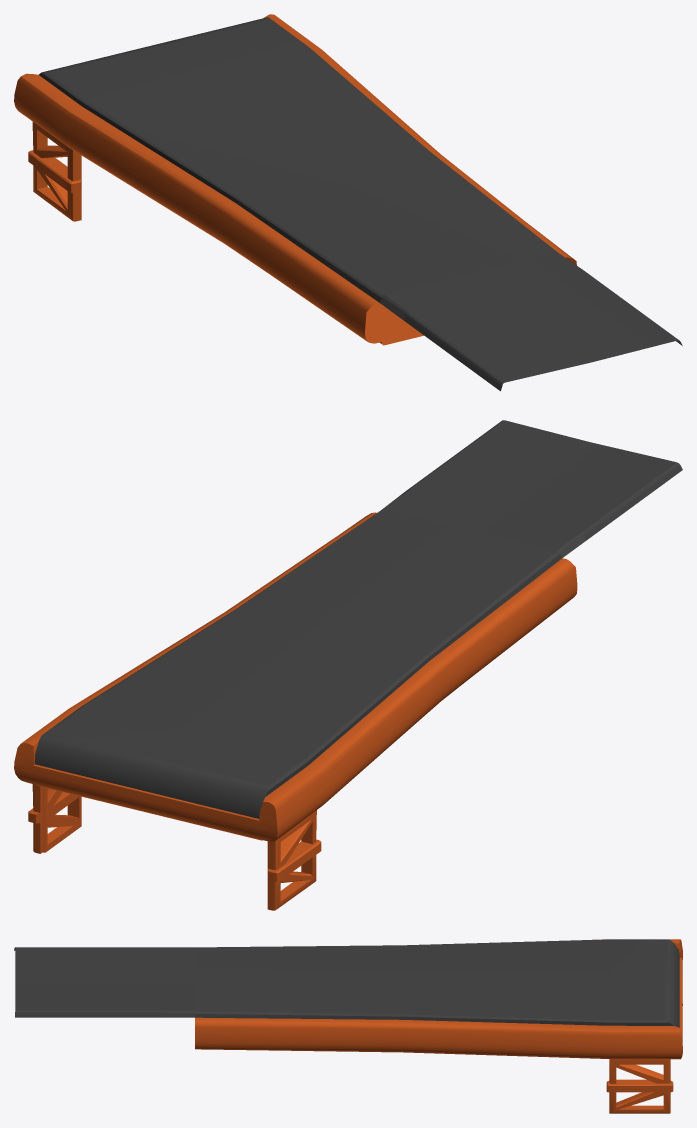
Rendered from MODEL_ENV_ConveyorEnd.fbx.
3 renders of one model, top to bottom at view 1: azimuth 30°, elevation 25°; view 2: azimuth 150°, elevation 25°; view 3: azimuth 270°, elevation 25°, orthographic. The views are drawn at different scales.
Parts seen in each view (by area): view 1: Conveyor_End; view 2: Conveyor_End; view 3: Conveyor_End.
Part boxes in pixels (x1,y1,x2,y2): Conveyor_End: [14, 14, 682, 391]; Conveyor_End: [14, 420, 682, 910]; Conveyor_End: [14, 939, 682, 1113].
Bounding box in the file's own units: 3.85 × 1.69 × 11.27.
